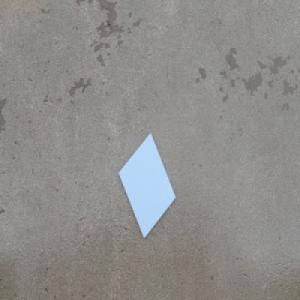PaintChip: (117, 132, 177, 241)
